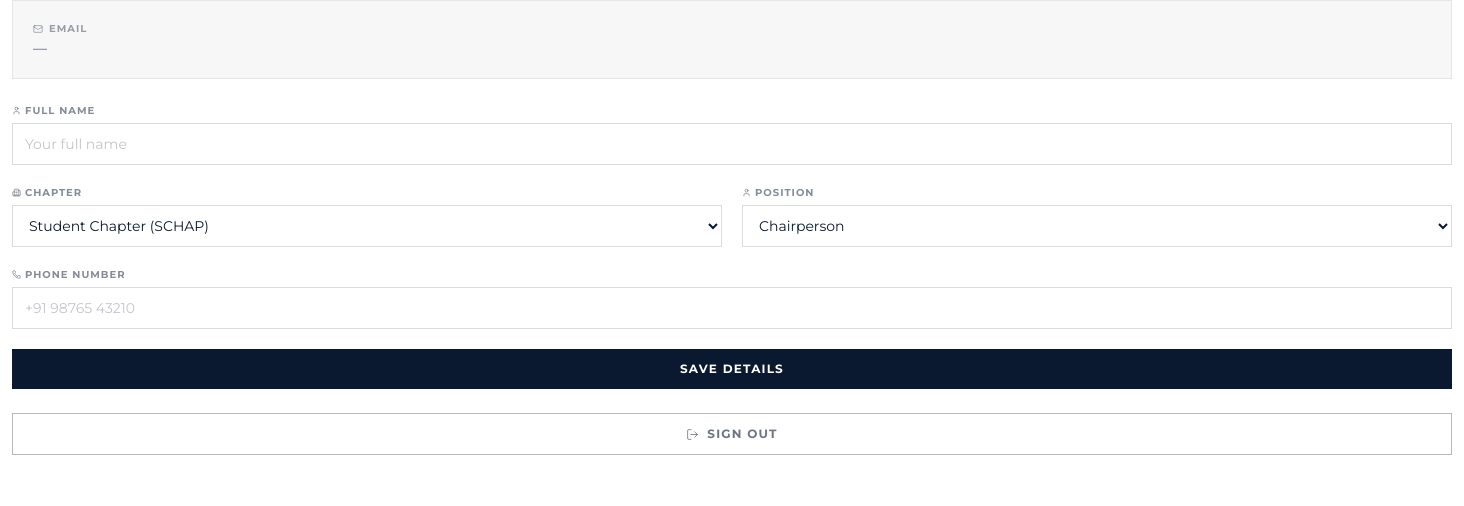
Test: ProfileForm Component › Validation › should show required errors for empty fields on submit
Click the button "Save Details": {"x": 732, "y": 369} [12, 349, 1452, 389]
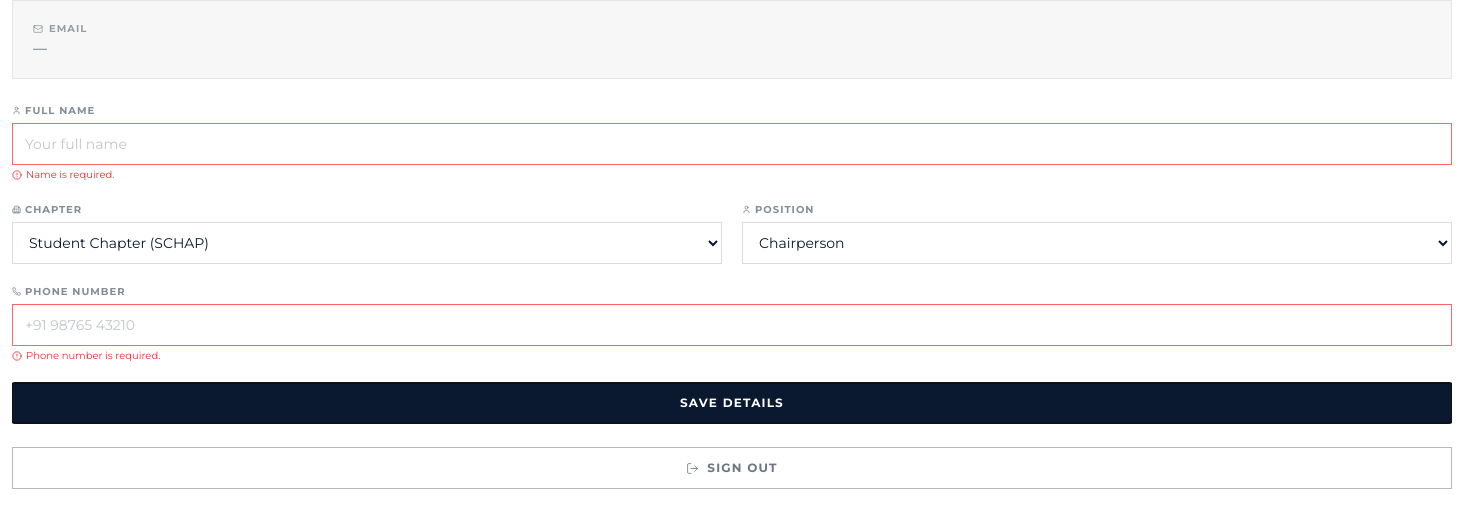
Result: the text "Name is required." is shown at [12, 168, 114, 181]
Result: the text "Phone number is required." is shown at [12, 349, 160, 362]
